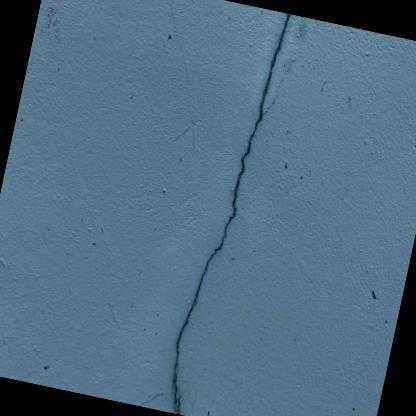crack: (169, 11, 292, 415)
